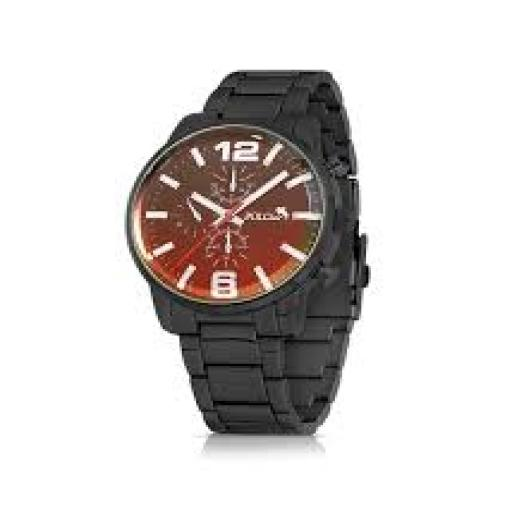KolSaati: (108, 33, 424, 458)
